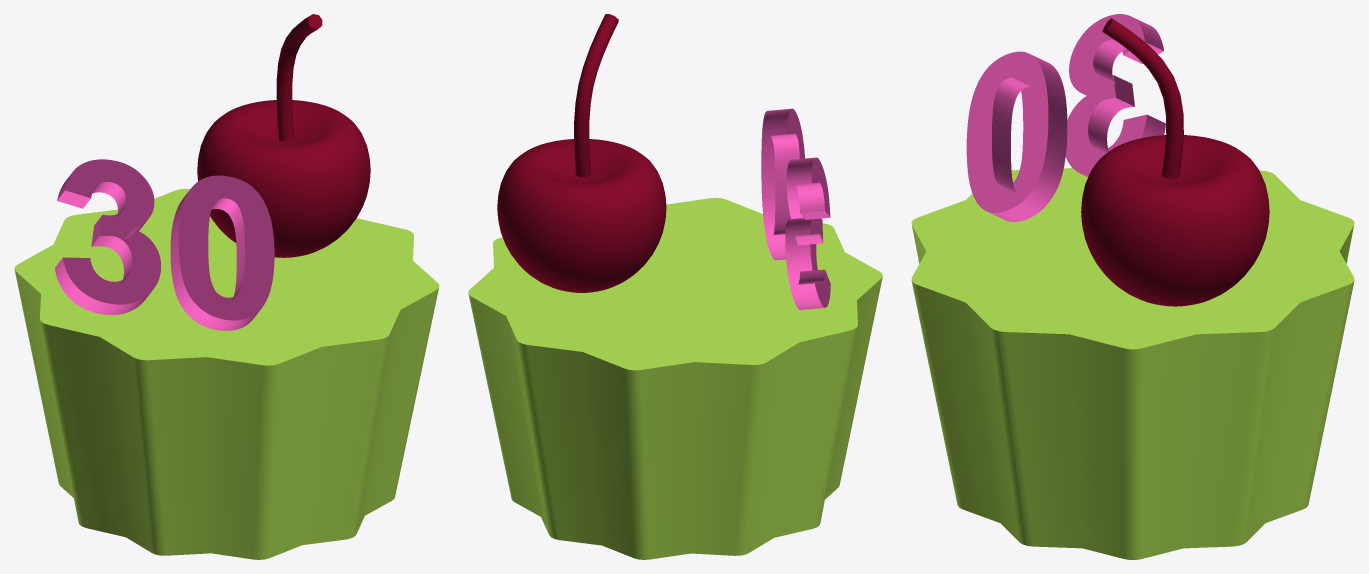
The model's file is cake10.glb.
The picture shows the model from 3 angles, left to right: view 1: azimuth 30°, elevation 25°; view 2: azimuth 150°, elevation 25°; view 3: azimuth 270°, elevation 25°; orthographic projection. The views are drawn at different scales.
Size of the model in its own units: 0.3144 by 0.3772 by 0.3003.
